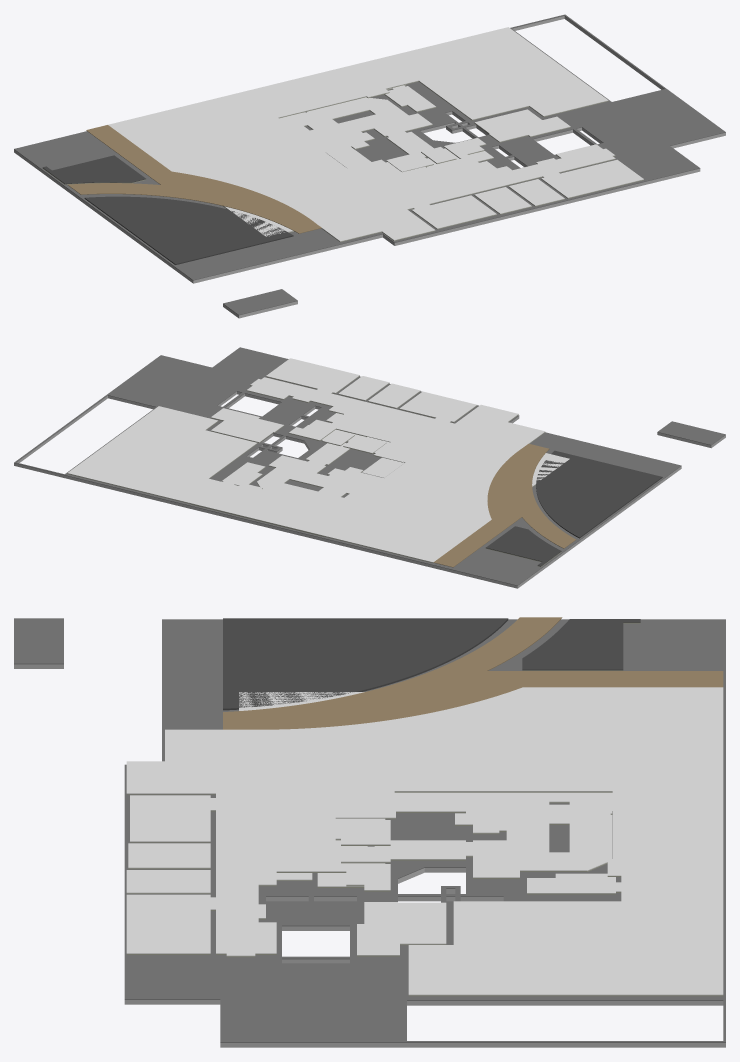
The model's file is PROJETO BIM 12 ANDARES_Primeiro_pavimento_IfcSlab.dae.
3 renders of one model, top to bottom at view 1: azimuth 30°, elevation 25°; view 2: azimuth 150°, elevation 25°; view 3: azimuth 270°, elevation 25°, orthographic. The views are drawn at different scales.
Parts seen in each view (by area): view 1: 1dgTlpsF5FavBPG93ikYem, 0lV0G7OZ98pOzL44XrjHZf, 3TRKTFABTFWh5s0b_5QA5w, 0L$dSfatv8LfRb6u0WUB_0, 1KE2rN34rDtfuDAY5ieqQJ, 2IWF7q_810JR9mgF8YoyyR, 3TRKTFABTFWh5s0b_5Q9pE, 1dgTlpsF5FavBPG93ikYZw, 2CWvi8VGP4G8JCq47_6$nl, 2rsYps6azD4PRYEX3E_TIV, 3TRKTFABTFWh5s0b_5QBFY, 3KqZ6Yg0LFxOi1GckHWbUu (+9 smaller); view 2: 1dgTlpsF5FavBPG93ikYem, 0lV0G7OZ98pOzL44XrjHZf, 3TRKTFABTFWh5s0b_5QA5w, 0L$dSfatv8LfRb6u0WUB_0, 1KE2rN34rDtfuDAY5ieqQJ, 2IWF7q_810JR9mgF8YoyyR, 2CWvi8VGP4G8JCq47_6$nl, 3TRKTFABTFWh5s0b_5Q9pE, 1dgTlpsF5FavBPG93ikYZw, 2rsYps6azD4PRYEX3E_TIV, 3TRKTFABTFWh5s0b_5QBFY, 3ffB$W4$X27w$jfcDrdI2t (+9 smaller); view 3: 1dgTlpsF5FavBPG93ikYem, 0lV0G7OZ98pOzL44XrjHZf, 3TRKTFABTFWh5s0b_5QA5w, 0L$dSfatv8LfRb6u0WUB_0, 1KE2rN34rDtfuDAY5ieqQJ, 2CWvi8VGP4G8JCq47_6$nl, 2IWF7q_810JR9mgF8YoyyR, 3TRKTFABTFWh5s0b_5Q9pE, 1dgTlpsF5FavBPG93ikYZw, 2rsYps6azD4PRYEX3E_TIV, 3TRKTFABTFWh5s0b_5QBFY, 3ffB$W4$X27w$jfcDrdI2t (+13 smaller).
Part boxes in pixels (bbox=[...]): 1dgTlpsF5FavBPG93ikYem: bbox=[108, 27, 615, 242]; 0lV0G7OZ98pOzL44XrjHZf: bbox=[14, 14, 725, 283]; 3TRKTFABTFWh5s0b_5QA5w: bbox=[84, 196, 293, 264]; 0L$dSfatv8LfRb6u0WUB_0: bbox=[68, 125, 321, 233]; 1KE2rN34rDtfuDAY5ieqQJ: bbox=[302, 97, 432, 137]; 2IWF7q_810JR9mgF8YoyyR: bbox=[541, 159, 643, 198]; 3TRKTFABTFWh5s0b_5Q9pE: bbox=[42, 155, 146, 184]; 1dgTlpsF5FavBPG93ikYZw: bbox=[474, 109, 570, 142]; 2CWvi8VGP4G8JCq47_6$nl: bbox=[290, 85, 520, 233]; 2rsYps6azD4PRYEX3E_TIV: bbox=[411, 195, 496, 229]; 3TRKTFABTFWh5s0b_5QBFY: bbox=[60, 112, 387, 208]; 3KqZ6Yg0LFxOi1GckHWbUu: bbox=[279, 112, 371, 151]; 1dgTlpsF5FavBPG93ikYem: bbox=[67, 377, 545, 563]; 0lV0G7OZ98pOzL44XrjHZf: bbox=[14, 347, 681, 588]; 3TRKTFABTFWh5s0b_5QA5w: bbox=[536, 450, 662, 538]; 0L$dSfatv8LfRb6u0WUB_0: bbox=[433, 443, 576, 567]; 1KE2rN34rDtfuDAY5ieqQJ: bbox=[257, 455, 350, 502]; 2IWF7q_810JR9mgF8YoyyR: bbox=[266, 358, 359, 393]; 2CWvi8VGP4G8JCq47_6$nl: bbox=[205, 406, 420, 561]; 3TRKTFABTFWh5s0b_5Q9pE: bbox=[485, 526, 561, 566]; 1dgTlpsF5FavBPG93ikYZw: bbox=[211, 408, 284, 442]; 2rsYps6azD4PRYEX3E_TIV: bbox=[399, 391, 477, 422]; 3TRKTFABTFWh5s0b_5QBFY: bbox=[244, 449, 550, 574]; 3ffB$W4$X27w$jfcDrdI2t: bbox=[657, 421, 725, 448]; 1dgTlpsF5FavBPG93ikYem: bbox=[126, 687, 723, 996]; 0lV0G7OZ98pOzL44XrjHZf: bbox=[124, 619, 725, 1047]; 3TRKTFABTFWh5s0b_5QA5w: bbox=[223, 618, 508, 710]; 0L$dSfatv8LfRb6u0WUB_0: bbox=[223, 617, 723, 729]; 1KE2rN34rDtfuDAY5ieqQJ: bbox=[466, 804, 612, 878]; 2CWvi8VGP4G8JCq47_6$nl: bbox=[236, 702, 725, 901]; 2IWF7q_810JR9mgF8YoyyR: bbox=[126, 894, 210, 954]; 3TRKTFABTFWh5s0b_5Q9pE: bbox=[522, 619, 640, 670]; 1dgTlpsF5FavBPG93ikYZw: bbox=[357, 902, 446, 956]; 2rsYps6azD4PRYEX3E_TIV: bbox=[130, 795, 210, 842]; 3TRKTFABTFWh5s0b_5QBFY: bbox=[236, 654, 725, 848]; 3ffB$W4$X27w$jfcDrdI2t: bbox=[14, 618, 63, 668].
Size of the model in its own units: 28.08 by 19.92 by 0.27.
